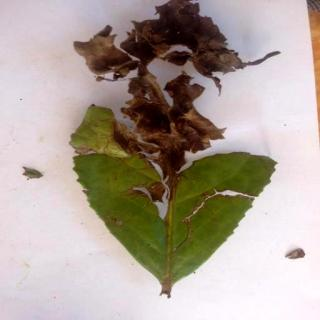Brown Blight: (74, 1, 279, 295)
